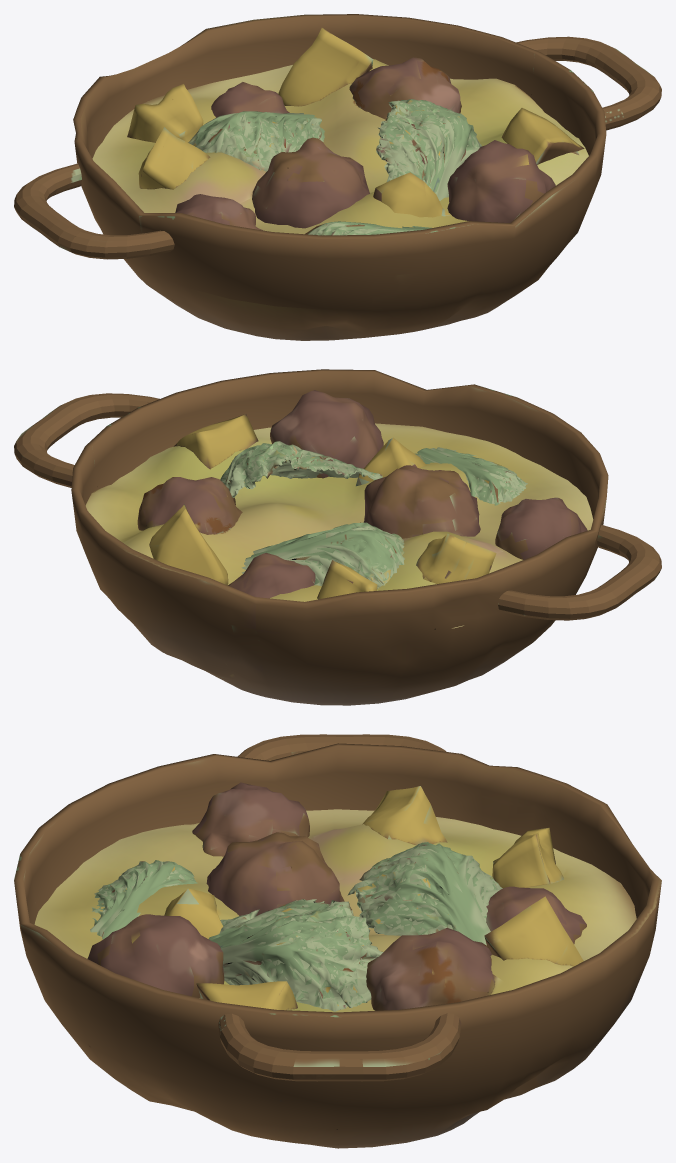
File: meatball-soup.fbx
3 renders of one model, top to bottom at view 1: azimuth 30°, elevation 25°; view 2: azimuth 150°, elevation 25°; view 3: azimuth 270°, elevation 25°, orthographic. The views are drawn at different scales.
Parts seen in each view (by area): view 1: 球体.005; view 2: 球体.005; view 3: 球体.005.
Boxes of the visible parts, box(x1,y1,x2,y2) form: 球体.005: box(14, 14, 661, 340); 球体.005: box(14, 369, 661, 705); 球体.005: box(14, 734, 661, 1148).
Size of the model in its own units: 332 by 107 by 258.
